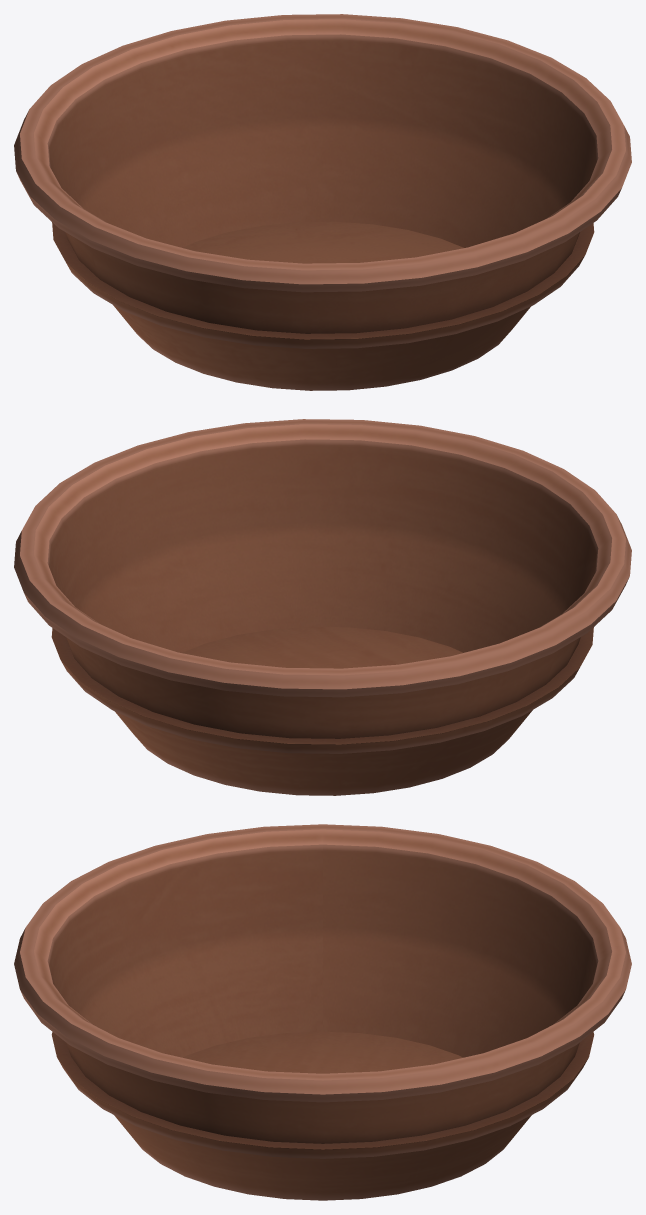
Rendered from SM_Bowl_01.fbx.
3 views of the same model, one above another, from view 1: azimuth 30°, elevation 25°; view 2: azimuth 150°, elevation 25°; view 3: azimuth 270°, elevation 25° (orthographic).
Parts seen in each view (by area): view 1: SM_Bowl_01_LOD0; view 2: SM_Bowl_01_LOD0; view 3: SM_Bowl_01_LOD0.
Boxes of the visible parts, box(x1,y1,x2,y2) form: SM_Bowl_01_LOD0: box(14, 14, 631, 390); SM_Bowl_01_LOD0: box(14, 419, 631, 795); SM_Bowl_01_LOD0: box(14, 824, 631, 1200).
Bounding box in the file's own units: 74.67 × 74.67 × 22.2.
